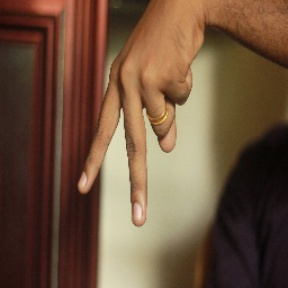Y: (77, 52, 193, 228)
